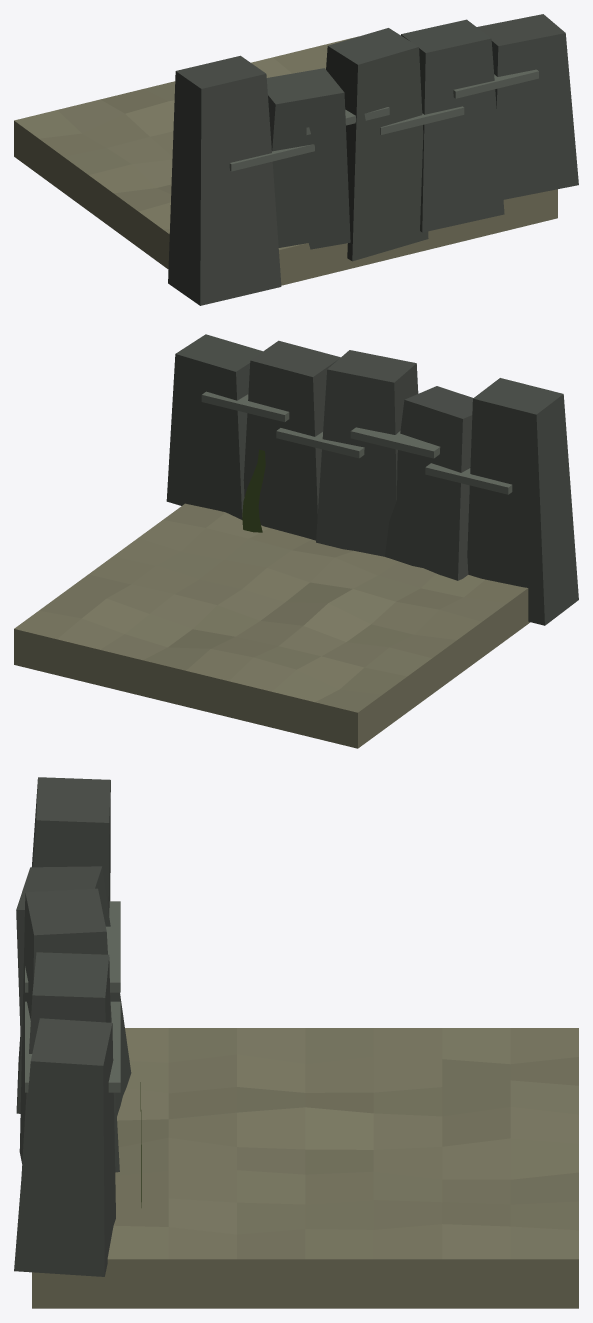
File: ground_edge_wall.glb
The picture shows the model from 3 angles, top to bottom: view 1: azimuth 30°, elevation 25°; view 2: azimuth 150°, elevation 25°; view 3: azimuth 270°, elevation 25°; orthographic projection. The views are drawn at different scales.
Parts seen in each view (by area): view 1: ground_edge_wall; view 2: ground_edge_wall; view 3: ground_edge_wall.
Boxes of the visible parts, x1,y1,x2,y2 form: ground_edge_wall: (14, 14, 578, 305); ground_edge_wall: (14, 334, 578, 748); ground_edge_wall: (14, 777, 578, 1308).
Bounding box in the file's own units: 6.65 × 3.56 × 6.2.
